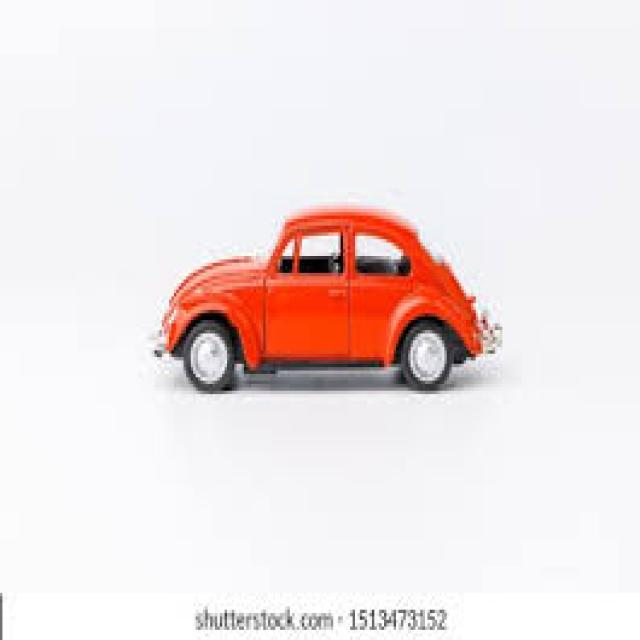Car: (152, 202, 500, 391)
